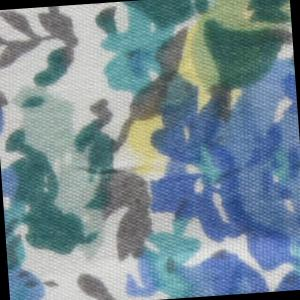Stain: (110, 1, 300, 185)
